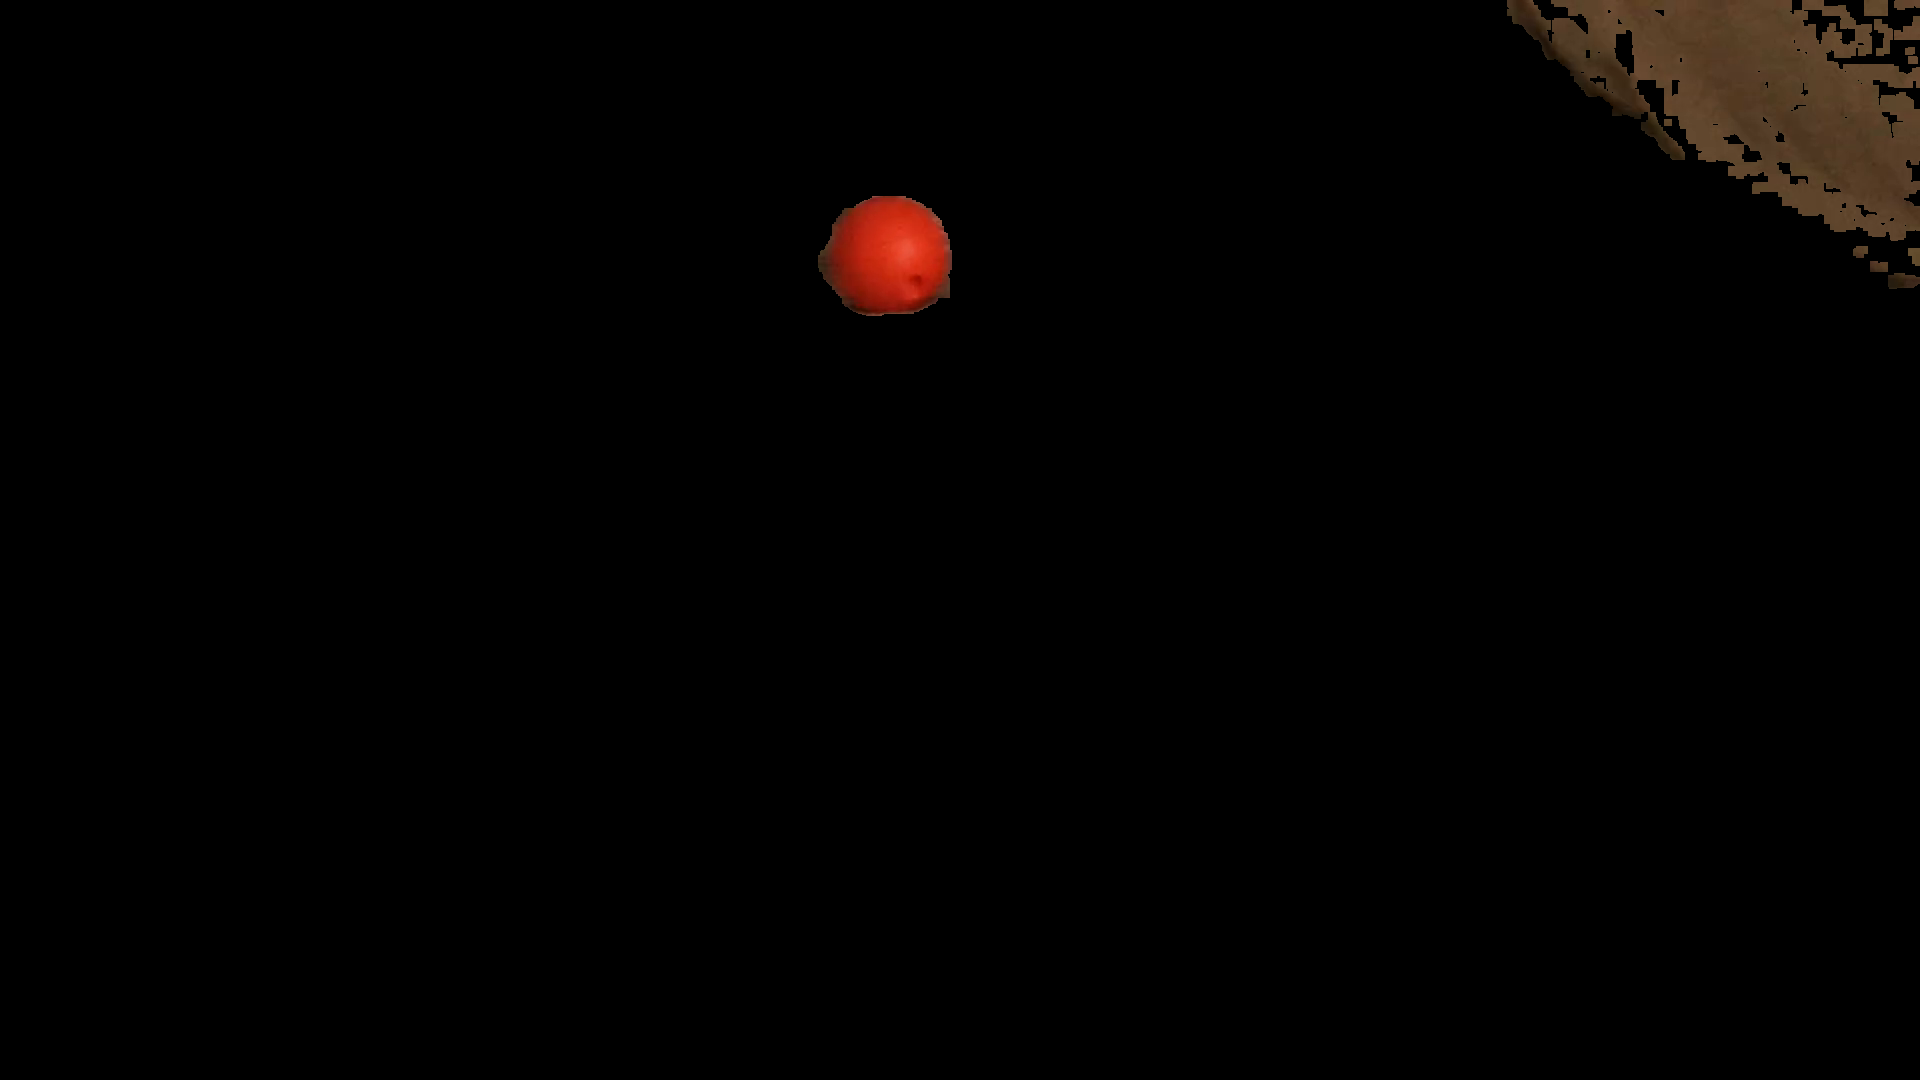Ball: (828, 196, 956, 313)
